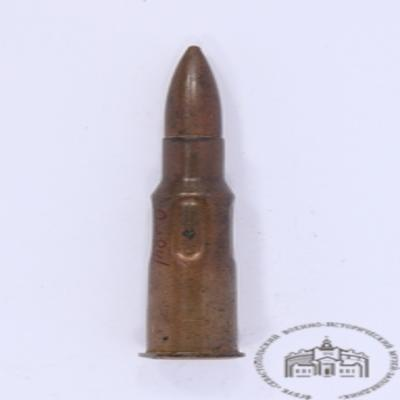weapon: (139, 46, 243, 361)
